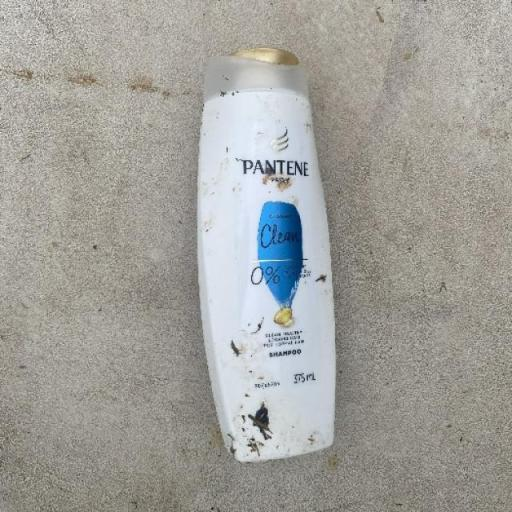plastic: (195, 46, 336, 462)
